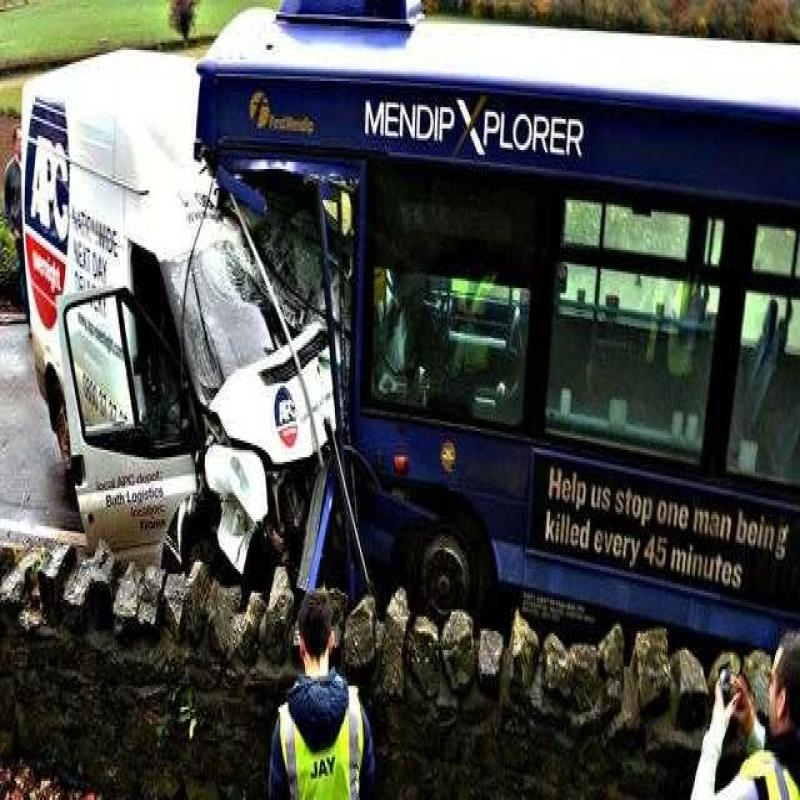bus: (183, 26, 778, 652)
